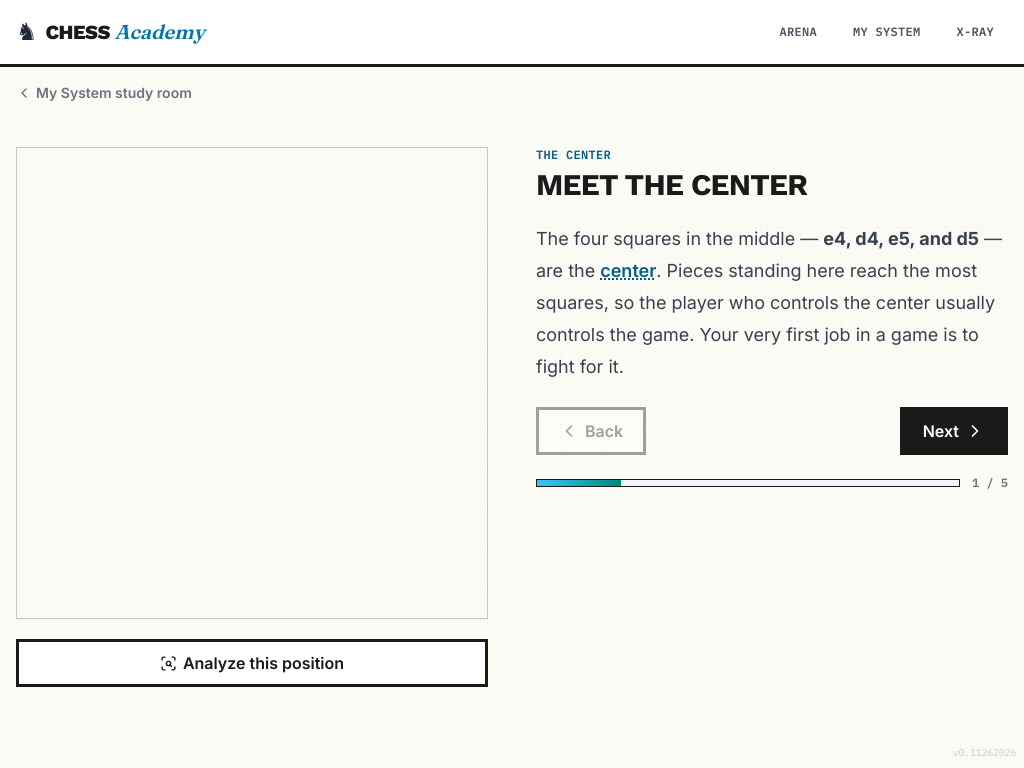
Test: restored study routes › renders a lesson, resolves its inline glossary term, advances, and records progress
Expected: the heading "Meet the center" is shown, 536,167 -> 807,202
Click the button "center" at (628, 271), box 600,255 -> 656,287
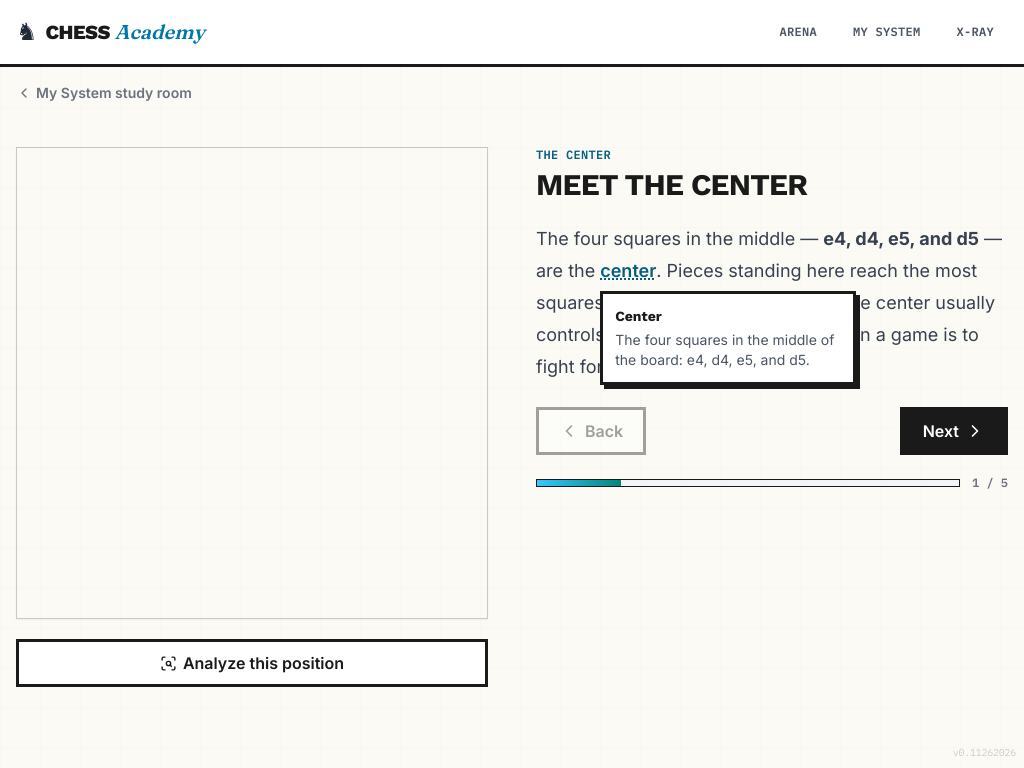
Now the text "The four squares in the middle of the board: e4, d4, e5, and d5." is shown, box 615,330 -> 841,370
Click the button "Next" at (954, 431), box 900,407 -> 1008,455
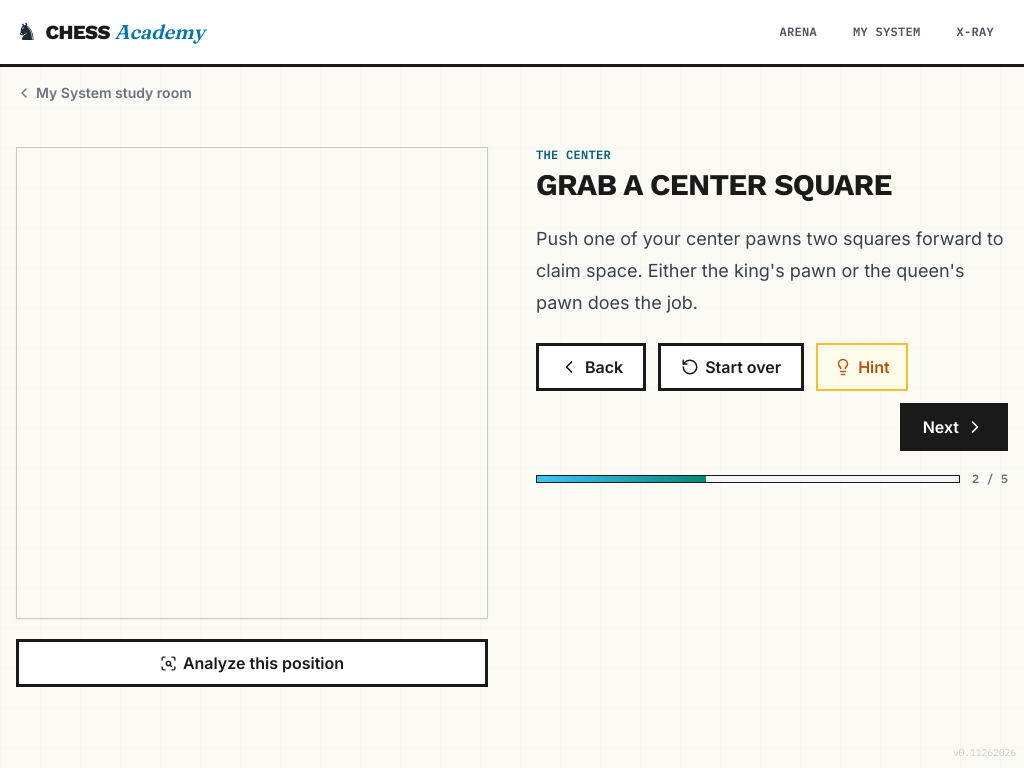
Now the heading "Grab a center square" is shown, box 536,167 -> 892,202
